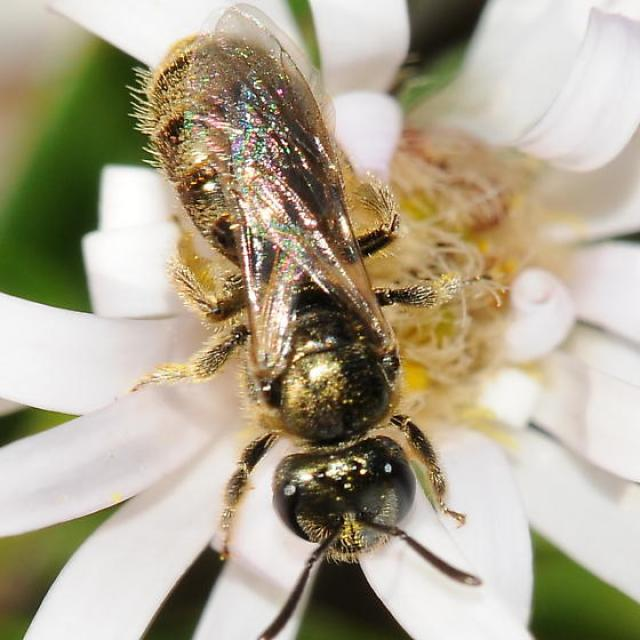Lasioglossum: (121, 12, 464, 593)
